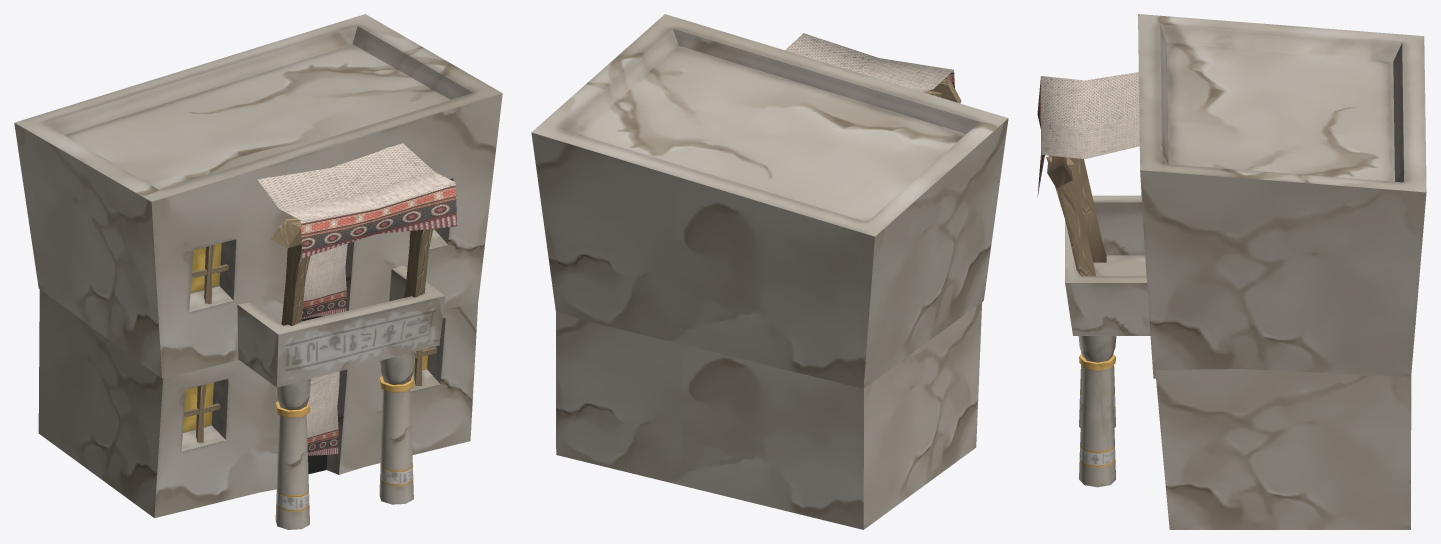
File: Egypt_Village_Buildings_07.FBX
The picture shows the model from 3 angles, left to right: view 1: azimuth 30°, elevation 25°; view 2: azimuth 150°, elevation 25°; view 3: azimuth 270°, elevation 25°; orthographic projection. The views are drawn at different scales.
Visible parts, largest first — view 1: Egypt_Village_Buildings_07; view 2: Egypt_Village_Buildings_07; view 3: Egypt_Village_Buildings_07.
Boxes of the visible parts, box(x1,y1,x2,y2) form: Egypt_Village_Buildings_07: box(14, 14, 502, 529); Egypt_Village_Buildings_07: box(531, 14, 1008, 529); Egypt_Village_Buildings_07: box(1037, 14, 1426, 529).
Size of the model in its own units: 664 by 645 by 609.
